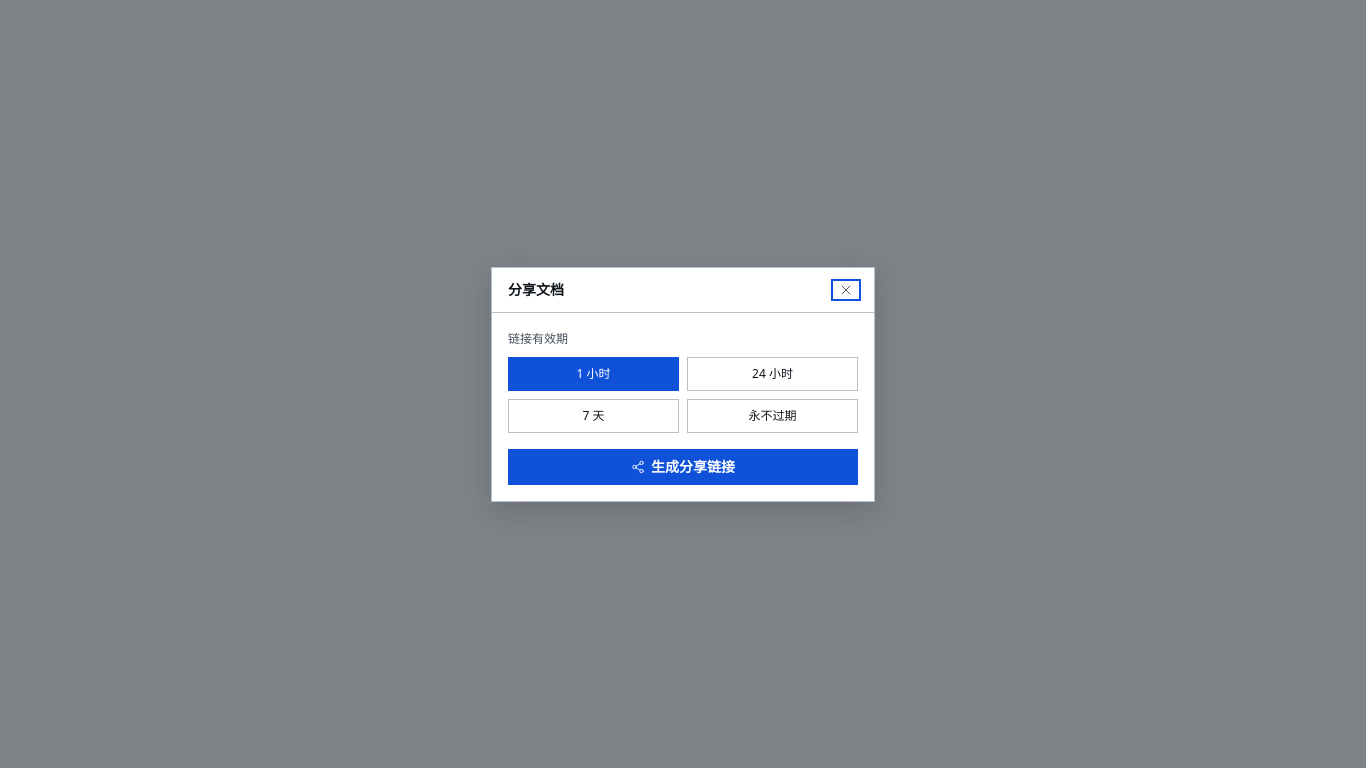
Test: ShareModal › reports creation failure and re-enables the create action
The image size is (1366, 768).
Click the button with test id "share-create-btn" at (683, 466), box [508, 448, 858, 484]
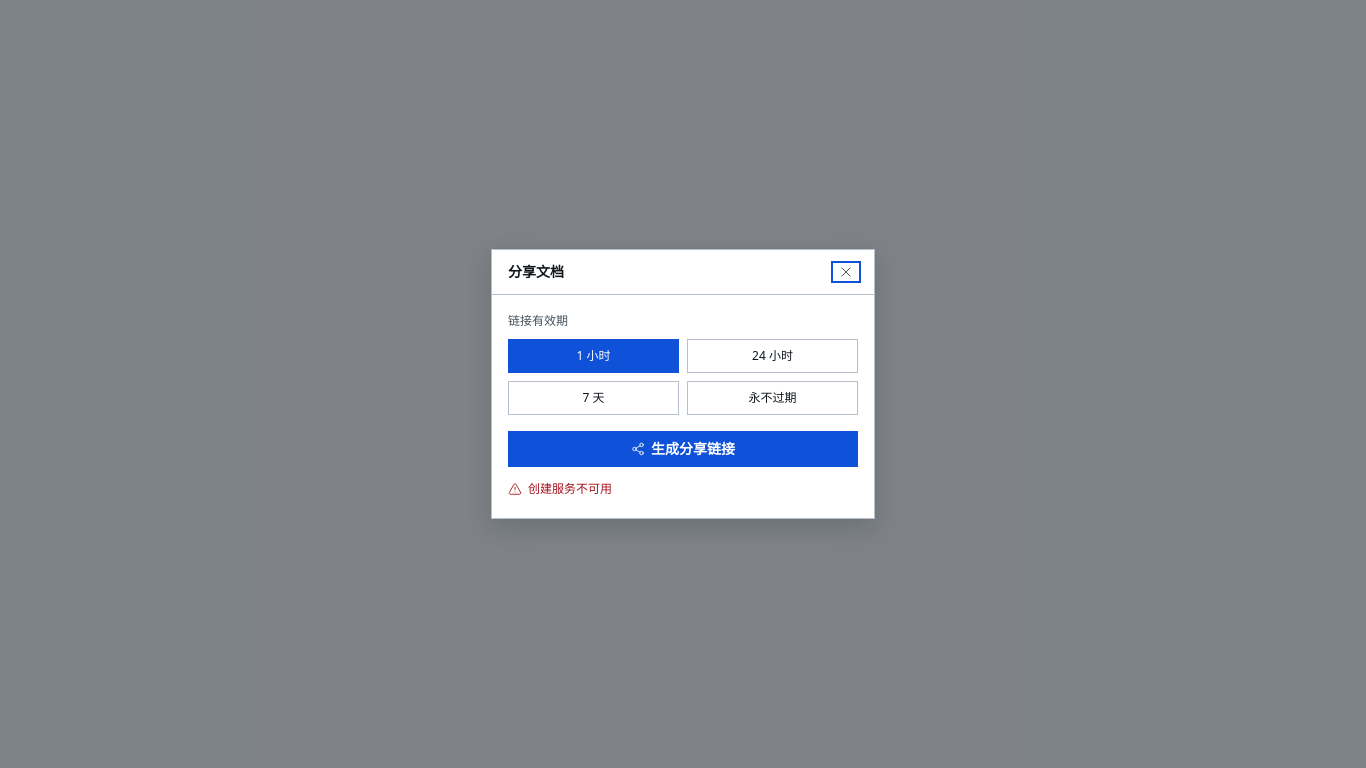
Expected: the button with test id "share-create-btn" is enabled, [508, 431, 858, 467]
Result: the message reads "创建服务不可用" at [528, 480, 612, 497]
